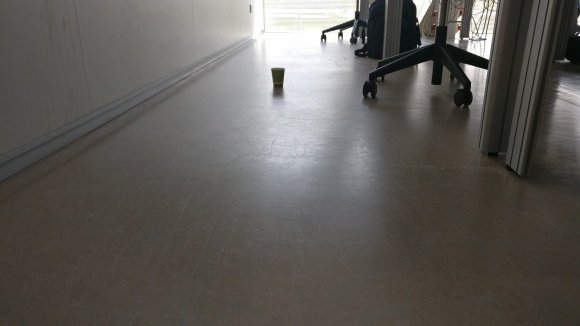cup: (269, 66, 286, 88)
